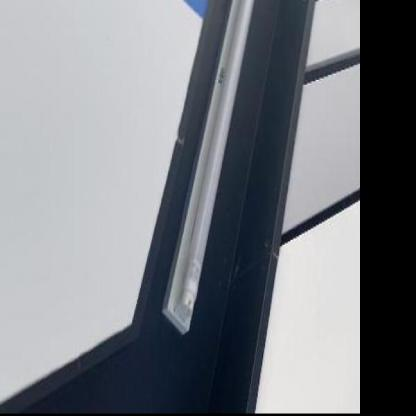light_off: (156, 0, 275, 352)
